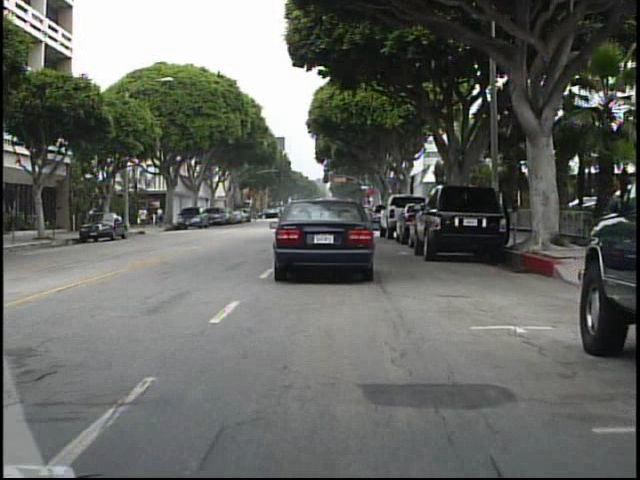person: (137, 203, 152, 232), (156, 202, 169, 229)
